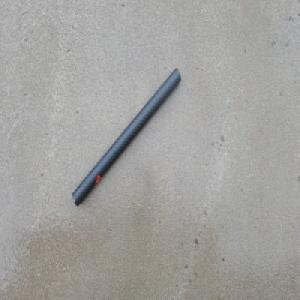LuggagePart: (71, 66, 181, 208)
